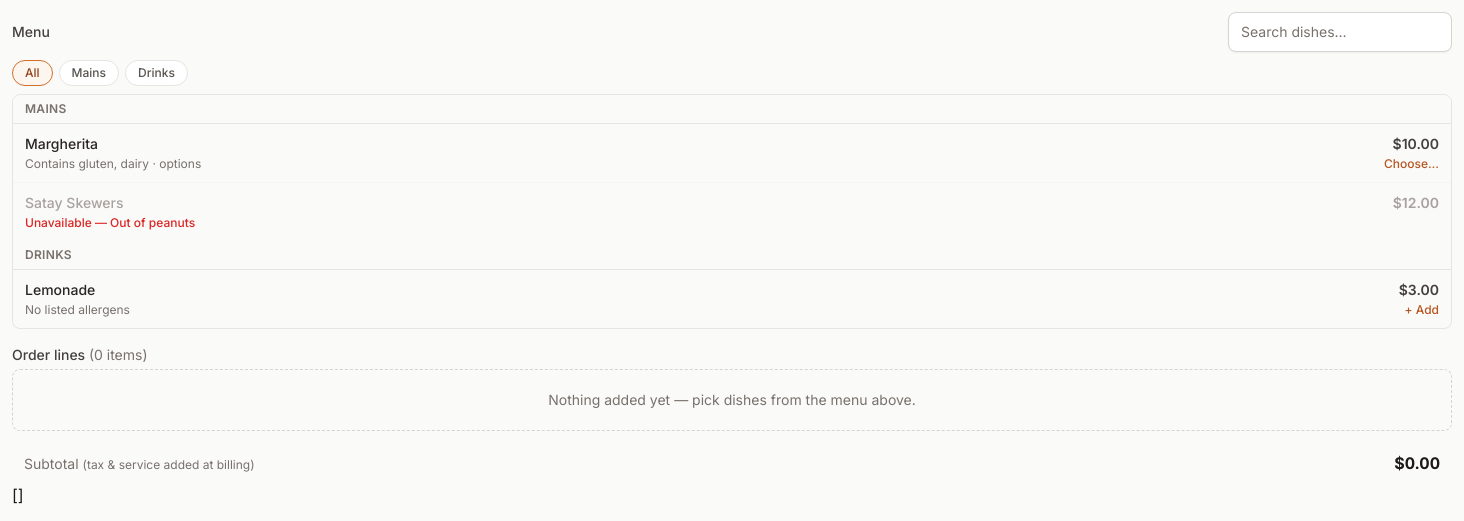
OrderLineEditor › filters the menu by search text and by category
The width and height of the screenshot is (1464, 521).
Type "mozzarella" into the search field named "Search the menu" at {"x": 1340, "y": 32}, box [1228,12,1452,52]
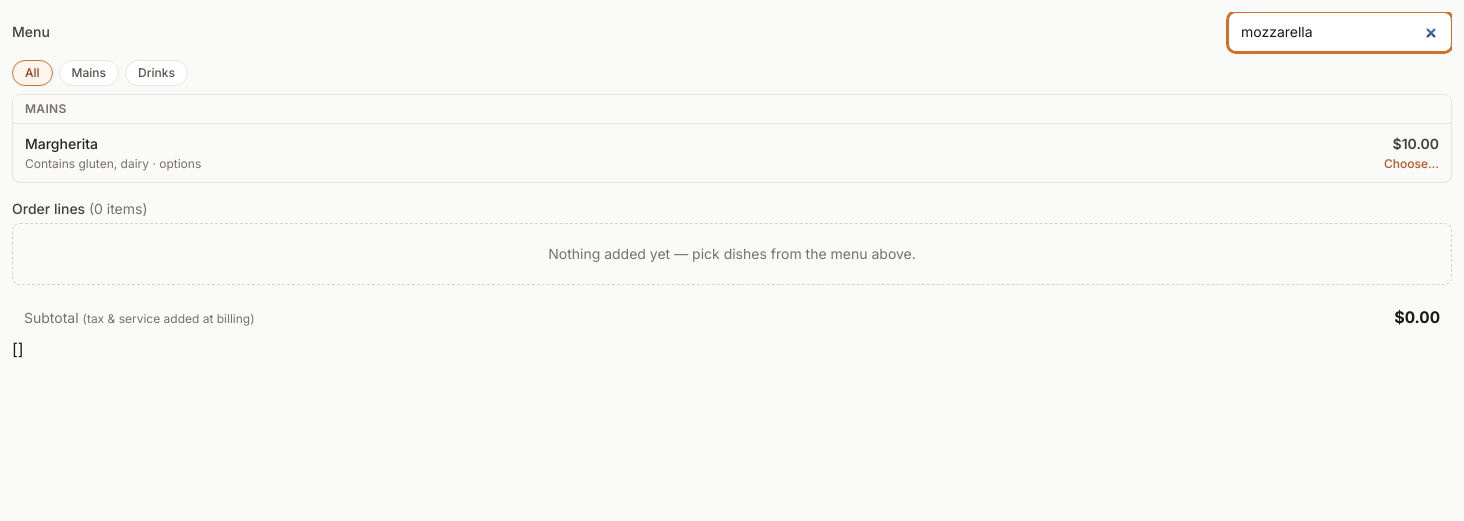
Clear the search field named "Search the menu" at {"x": 1340, "y": 32}, box [1228,12,1452,52]
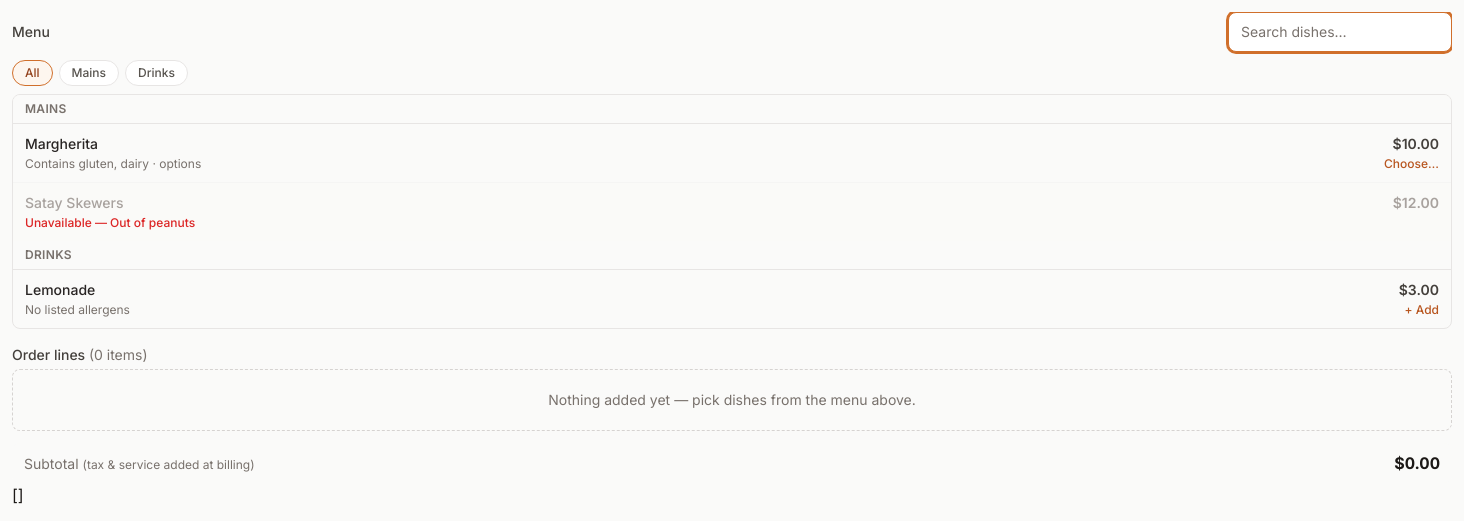
Click the button "Drinks" at {"x": 156, "y": 73}, box [125,60,188,86]
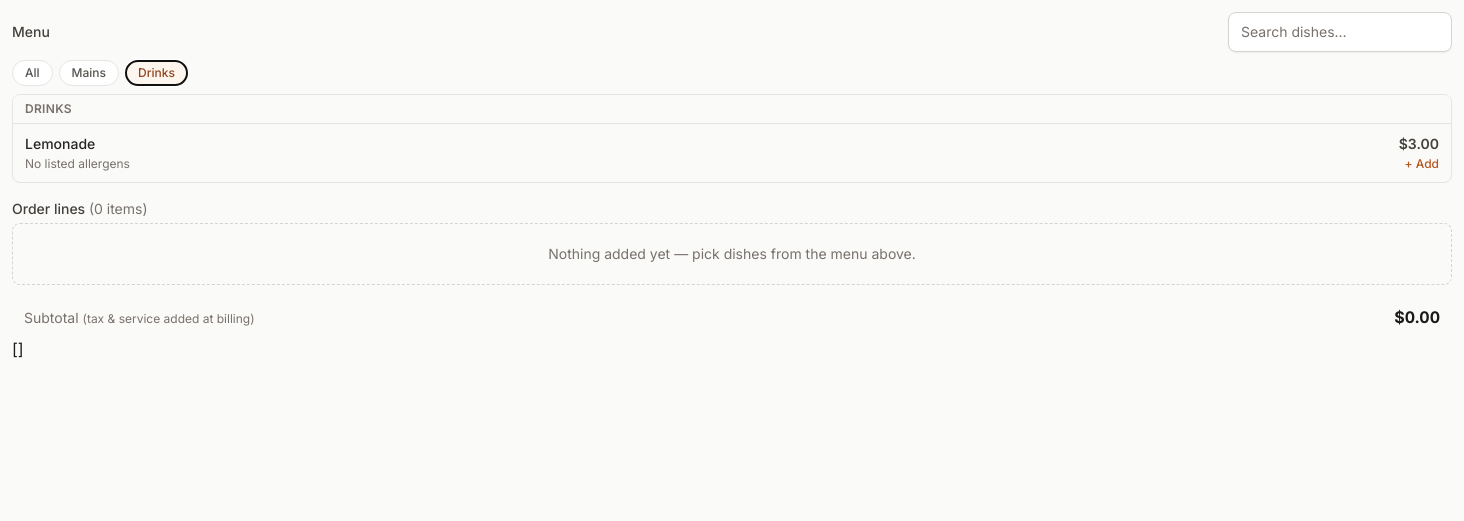
Expected: the button "Lemonade No listed allergens $3.00 + Add" is shown, [13,124,1451,182]
Expected: the button "Margherita" is gone
